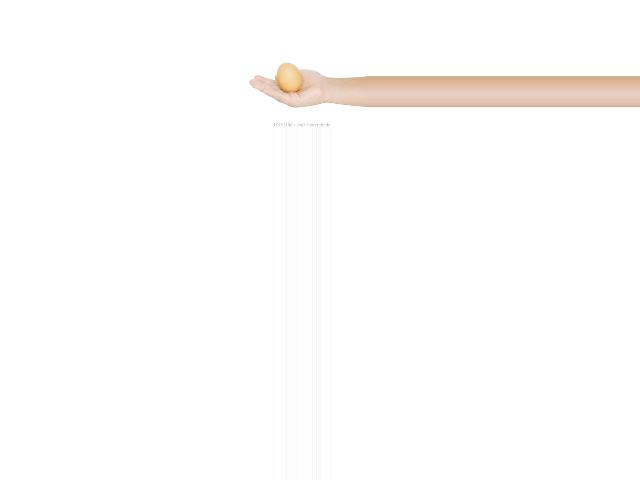egg: (276, 62, 301, 93)
